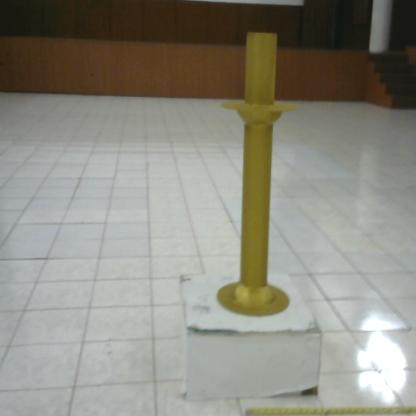pole: (214, 20, 306, 324)
